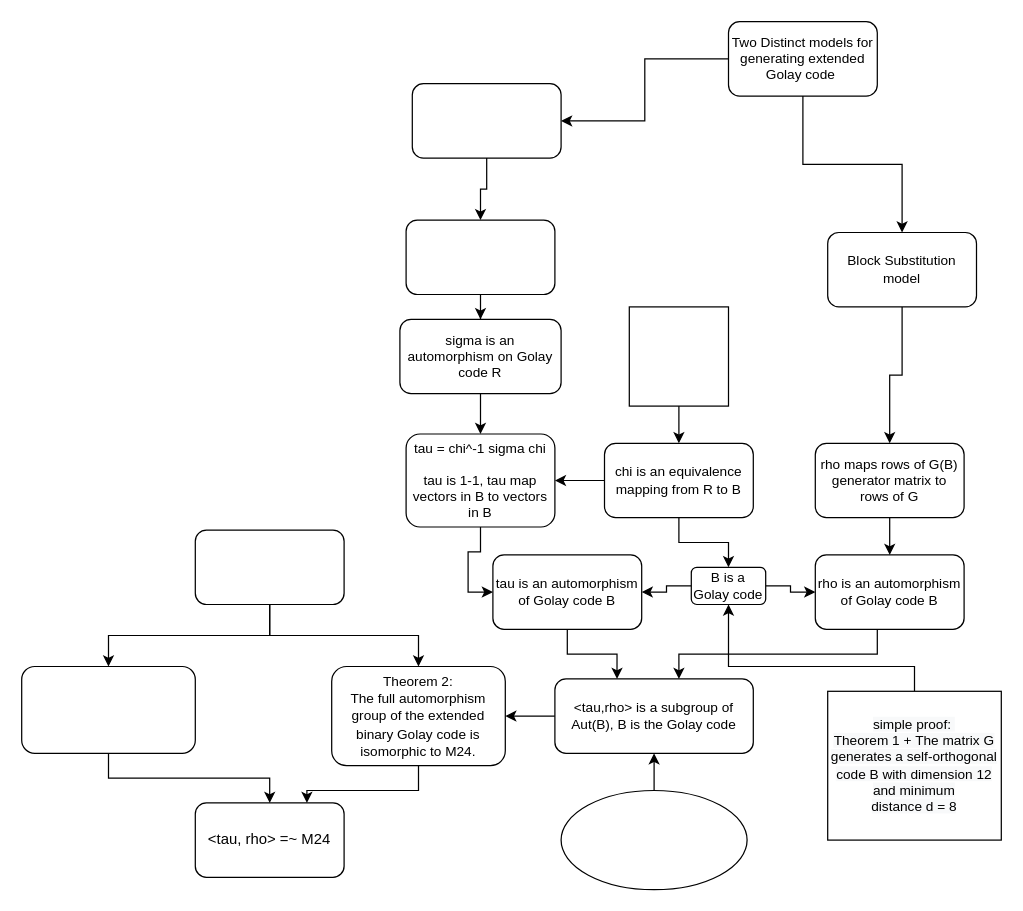
The diagram is 1023 pixels wide and 911 high, and some of its shapes have lost their labels. The shapes that lost their labels are listed below. From the top down, each one's centre as x and y in pixels, then its label:
the point at 486,120: Quadratic residue model
the point at 480,256: sigma maps rows of Q(R) generator matrix to rows of R
the point at 678,356: combinatorial block design
the point at 269,566: |<tau,rho>| = |M24| proof by CPU
the point at 107,709: Lemma 1: The only simple group of order 244, 823, 040 is the Mathieu group M24.
the point at 653,839: <a,b> is a subgroup of G given a,b are elements of G
